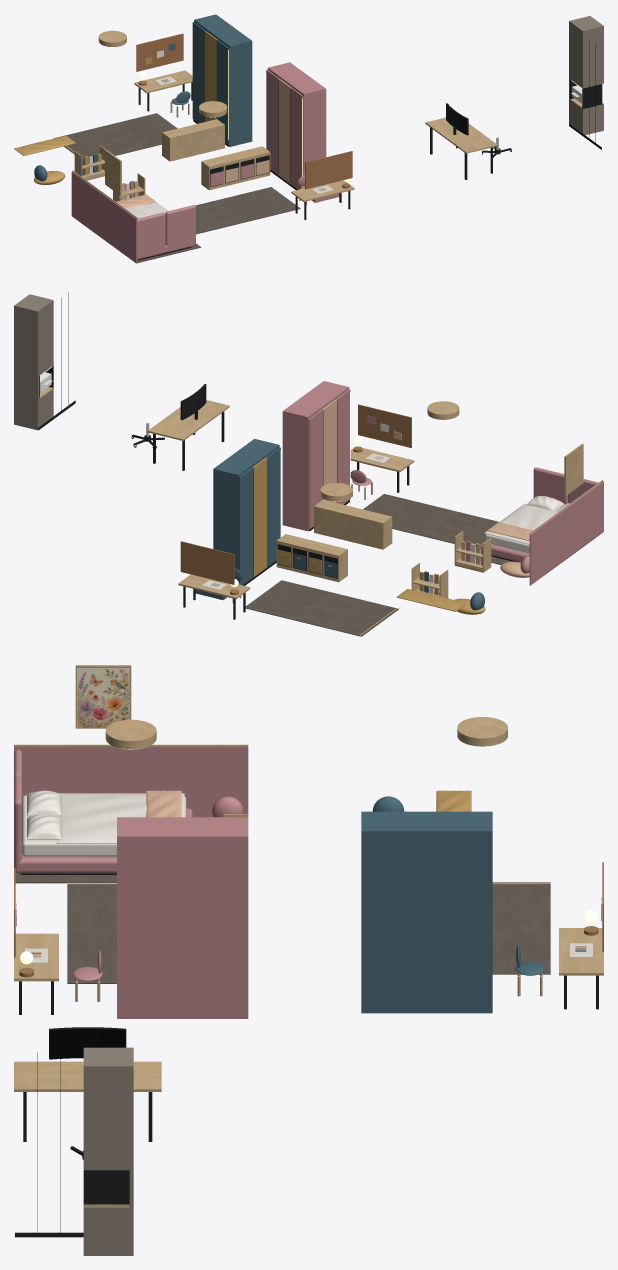
The model's file is dom-interior-03.glb.
The picture shows the model from 3 angles, top to bottom: view 1: azimuth 30°, elevation 25°; view 2: azimuth 150°, elevation 25°; view 3: azimuth 270°, elevation 25°; orthographic projection. The views are drawn at different scales.
Visible parts, largest first — view 1: DOM_01007 | C-BOY-109 · WARDROBE · celovýšková vstavaná skri, DOM_01073 | C-GIRL-108 · FEATURE · nízky umývateľný farebný , DOM_01065 | C-BOY-109 · PLAY · mäkký centrálny koberec, DOM_01145 | C-GIRL-108 · PLAY · mäkký centrálny koberec, DOM_01087 | C-GIRL-108 · WARDROBE · celovýšková vstavaná skr, DOM_01155 | OFFICE-FITOUT-2026-08-29 · CABINET · horný blok , DOM_01035 | C-BOY-109 · TOYS · nízky dubový korpus, DOM_01109 | C-GIRL-108 · DESK · veľká korková moodboard ploc, DOM_01088 | C-GIRL-108 · WARDROBE · bezúchytkové čelo 1, DOM_01089 | C-GIRL-108 · WARDROBE · bezúchytkové čelo 2, DOM_01115 | C-GIRL-108 · TOYS · nízky dubový korpus, DOM_01082 | C-GIRL-108 · BED · čalúnené čelo 2 (+17 smaller); view 2: DOM_01065 | C-BOY-109 · PLAY · mäkký centrálny koberec, DOM_01087 | C-GIRL-108 · WARDROBE · celovýšková vstavaná skr, DOM_01073 | C-GIRL-108 · FEATURE · nízky umývateľný farebný , DOM_01145 | C-GIRL-108 · PLAY · mäkký centrálny koberec, DOM_01007 | C-BOY-109 · WARDROBE · celovýšková vstavaná skri, DOM_01156 | OFFICE-FITOUT-2026-08-29 · CABINET · severný uko, DOM_01115 | C-GIRL-108 · TOYS · nízky dubový korpus, DOM_01011 | C-BOY-109 · WARDROBE · bezúchytkové čelo 3, DOM_01029 | C-BOY-109 · DESK · veľká korková moodboard ploch, DOM_01009 | C-BOY-109 · WARDROBE · bezúchytkové čelo 2, DOM_01109 | C-GIRL-108 · DESK · veľká korková moodboard ploc, DOM_01008 | C-BOY-109 · WARDROBE · bezúchytkové čelo 1 (+16 smaller); view 3: DOM_01007 | C-BOY-109 · WARDROBE · celovýšková vstavaná skri, DOM_01087 | C-GIRL-108 · WARDROBE · celovýšková vstavaná skr, DOM_01073 | C-GIRL-108 · FEATURE · nízky umývateľný farebný , DOM_01155 | OFFICE-FITOUT-2026-08-29 · CABINET · horný blok , DOM_01065 | C-BOY-109 · PLAY · mäkký centrálny koberec, DOM_01145 | C-GIRL-108 · PLAY · mäkký centrálny koberec, DOM_01083 | C-GIRL-108 · BED · mäkko skladaná ľanová prikrýv, DOM_01169 | OFFICE-FITOUT-2026-08-29 · DESK · subtílna dubov, DOM_01076 | C-GIRL-108 · ART · autorská detská ilustrácia, DOM_01154 | OFFICE-FITOUT-2026-08-29 · CABINET · spodný blok, DOM_01079 | C-GIRL-108 · BED · zaoblený čalúnený rám, DOM_01015 | C-BOY-109 · DESK · subtílna dubová pracovná dosk (+13 smaller).
Part boxes in pixels (bbox=[...]): DOM_01007 | C-BOY-109 · WARDROBE · celovýšková vstavaná skri: bbox=[194, 14, 252, 146]; DOM_01073 | C-GIRL-108 · FEATURE · nízky umývateľný farebný : bbox=[71, 171, 137, 263]; DOM_01065 | C-BOY-109 · PLAY · mäkký centrálny koberec: bbox=[53, 113, 177, 158]; DOM_01145 | C-GIRL-108 · PLAY · mäkký centrálny koberec: bbox=[195, 187, 300, 234]; DOM_01087 | C-GIRL-108 · WARDROBE · celovýšková vstavaná skr: bbox=[267, 62, 326, 174]; DOM_01155 | OFFICE-FITOUT-2026-08-29 · CABINET · horný blok : bbox=[570, 16, 603, 88]; DOM_01035 | C-BOY-109 · TOYS · nízky dubový korpus: bbox=[162, 119, 224, 161]; DOM_01109 | C-GIRL-108 · DESK · veľká korková moodboard ploc: bbox=[305, 151, 352, 189]; DOM_01088 | C-GIRL-108 · WARDROBE · bezúchytkové čelo 1: bbox=[290, 87, 303, 189]; DOM_01089 | C-GIRL-108 · WARDROBE · bezúchytkové čelo 2: bbox=[278, 78, 291, 183]; DOM_01115 | C-GIRL-108 · TOYS · nízky dubový korpus: bbox=[201, 146, 270, 190]; DOM_01082 | C-GIRL-108 · BED · čalúnené čelo 2: bbox=[165, 205, 195, 252]; DOM_01065 | C-BOY-109 · PLAY · mäkký centrálny koberec: bbox=[245, 580, 398, 636]; DOM_01087 | C-GIRL-108 · WARDROBE · celovýšková vstavaná skr: bbox=[282, 381, 349, 531]; DOM_01073 | C-GIRL-108 · FEATURE · nízky umývateľný farebný : bbox=[529, 481, 603, 585]; DOM_01145 | C-GIRL-108 · PLAY · mäkký centrálny koberec: bbox=[363, 494, 498, 547]; DOM_01007 | C-BOY-109 · WARDROBE · celovýšková vstavaná skri: bbox=[213, 439, 279, 581]; DOM_01156 | OFFICE-FITOUT-2026-08-29 · CABINET · severný uko: bbox=[14, 305, 39, 430]; DOM_01115 | C-GIRL-108 · TOYS · nízky dubový korpus: bbox=[314, 499, 392, 549]; DOM_01011 | C-BOY-109 · WARDROBE · bezúchytkové čelo 3: bbox=[238, 467, 253, 585]; DOM_01029 | C-BOY-109 · DESK · veľká korková moodboard ploch: bbox=[180, 541, 234, 584]; DOM_01009 | C-BOY-109 · WARDROBE · bezúchytkové čelo 2: bbox=[252, 457, 267, 576]; DOM_01109 | C-GIRL-108 · DESK · veľká korková moodboard ploc: bbox=[358, 404, 411, 447]; DOM_01008 | C-BOY-109 · WARDROBE · bezúchytkové čelo 1: bbox=[266, 447, 280, 566]; DOM_01007 | C-BOY-109 · WARDROBE · celovýšková vstavaná skri: bbox=[361, 811, 492, 1013]; DOM_01087 | C-GIRL-108 · WARDROBE · celovýšková vstavaná skr: bbox=[117, 817, 248, 1018]; DOM_01073 | C-GIRL-108 · FEATURE · nízky umývateľný farebný : bbox=[14, 747, 248, 817]; DOM_01155 | OFFICE-FITOUT-2026-08-29 · CABINET · horný blok : bbox=[83, 1047, 129, 1170]; DOM_01065 | C-BOY-109 · PLAY · mäkký centrálny koberec: bbox=[492, 882, 550, 974]; DOM_01145 | C-GIRL-108 · PLAY · mäkký centrálny koberec: bbox=[67, 882, 116, 983]; DOM_01083 | C-GIRL-108 · BED · mäkko skladaná ľanová prikrýv: bbox=[56, 793, 184, 843]; DOM_01169 | OFFICE-FITOUT-2026-08-29 · DESK · subtílna dubov: bbox=[14, 1061, 161, 1091]; DOM_01076 | C-GIRL-108 · ART · autorská detská ilustrácia: bbox=[77, 668, 129, 727]; DOM_01154 | OFFICE-FITOUT-2026-08-29 · CABINET · spodný blok: bbox=[83, 1206, 129, 1255]; DOM_01079 | C-GIRL-108 · BED · zaoblený čalúnený rám: bbox=[18, 808, 192, 873]; DOM_01015 | C-BOY-109 · DESK · subtílna dubová pracovná dosk: bbox=[559, 928, 603, 975].
Bounding box in the file's own units: 12.4 × 2.59 × 7.2.
Materials: 18 (3 with a texture image).
